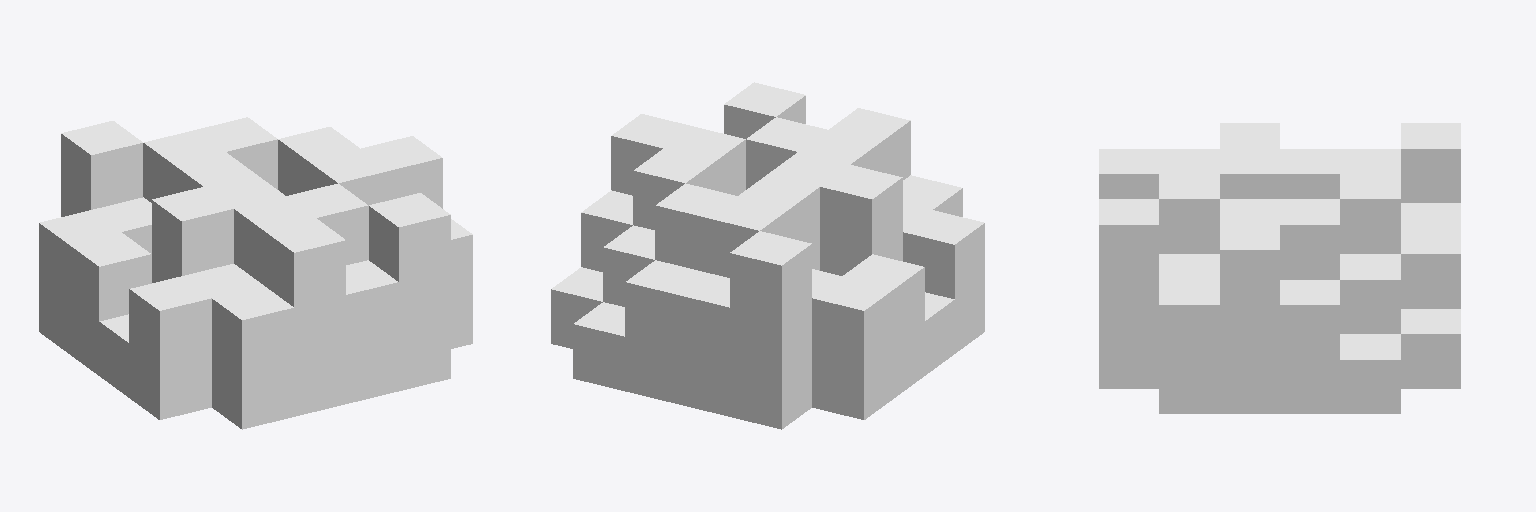
The model's file is Desert-54-GoldPile.obj.
The picture shows the model from 3 angles: view 1: azimuth 30°, elevation 25°; view 2: azimuth 150°, elevation 25°; view 3: azimuth 270°, elevation 25°; orthographic projection.
Visible parts, largest first — view 1: GoldPile; view 2: GoldPile; view 3: GoldPile.
Boxes of the visible parts, <box> form: GoldPile: <box>39,117,472,429</box>; GoldPile: <box>551,82,984,429</box>; GoldPile: <box>1099,123,1460,413</box>.
Size of the model in its own units: 0.6 by 0.3 by 0.6.